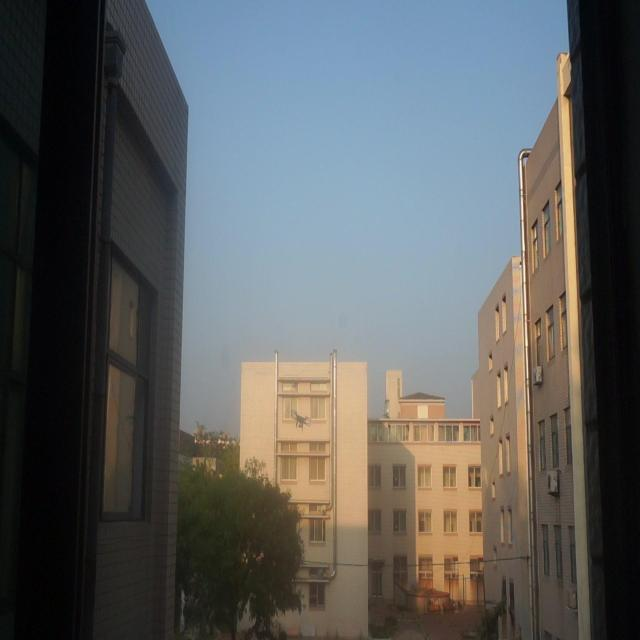drone: (292, 409, 310, 432)
